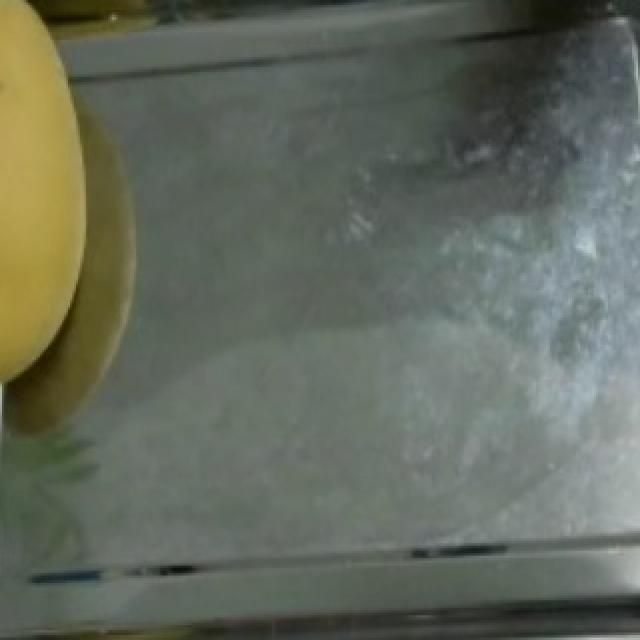fruit: (0, 0, 128, 407)
